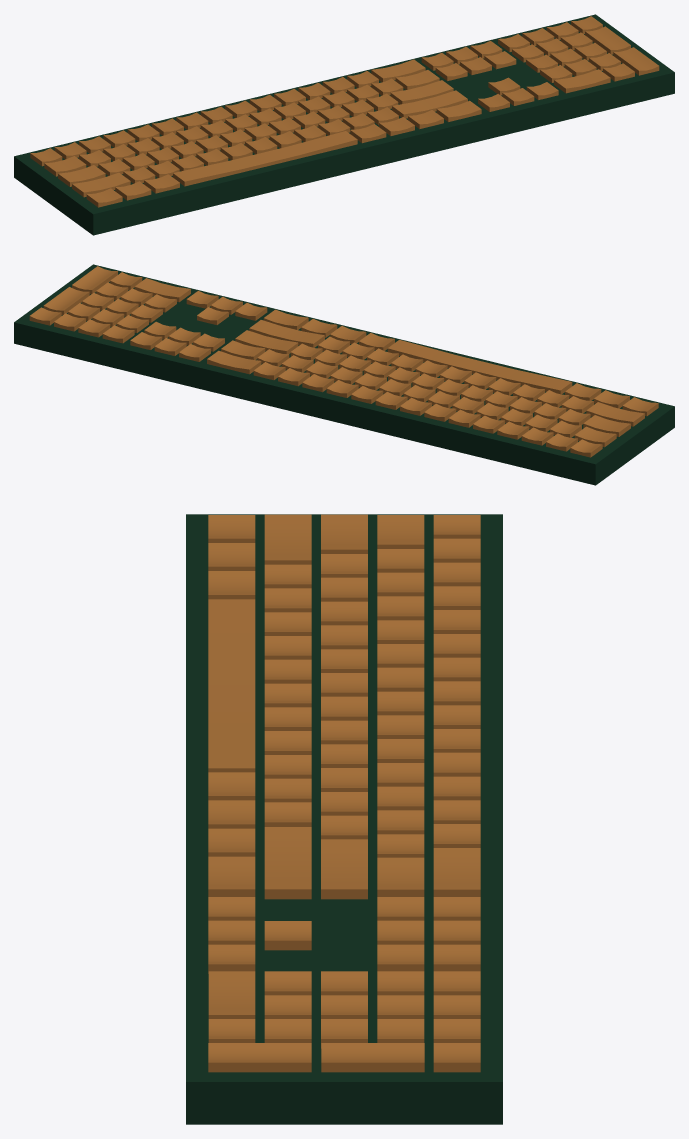
The model's file is KeyBoard.fbx.
3 views of the same model, one above another, from view 1: azimuth 30°, elevation 25°; view 2: azimuth 150°, elevation 25°; view 3: azimuth 270°, elevation 25° (orthographic). The views are drawn at different scales.
Parts seen in each view (by area): view 1: KeyBoardBase2; view 2: KeyBoardBase2; view 3: KeyBoardBase2.
Boxes of the visible parts, box(x1,y1,x2,y2) form: KeyBoardBase2: box(14, 14, 674, 235); KeyBoardBase2: box(14, 264, 674, 485); KeyBoardBase2: box(186, 514, 502, 1124).
Size of the model in its own units: 28.65 by 1.23 by 6.76.
